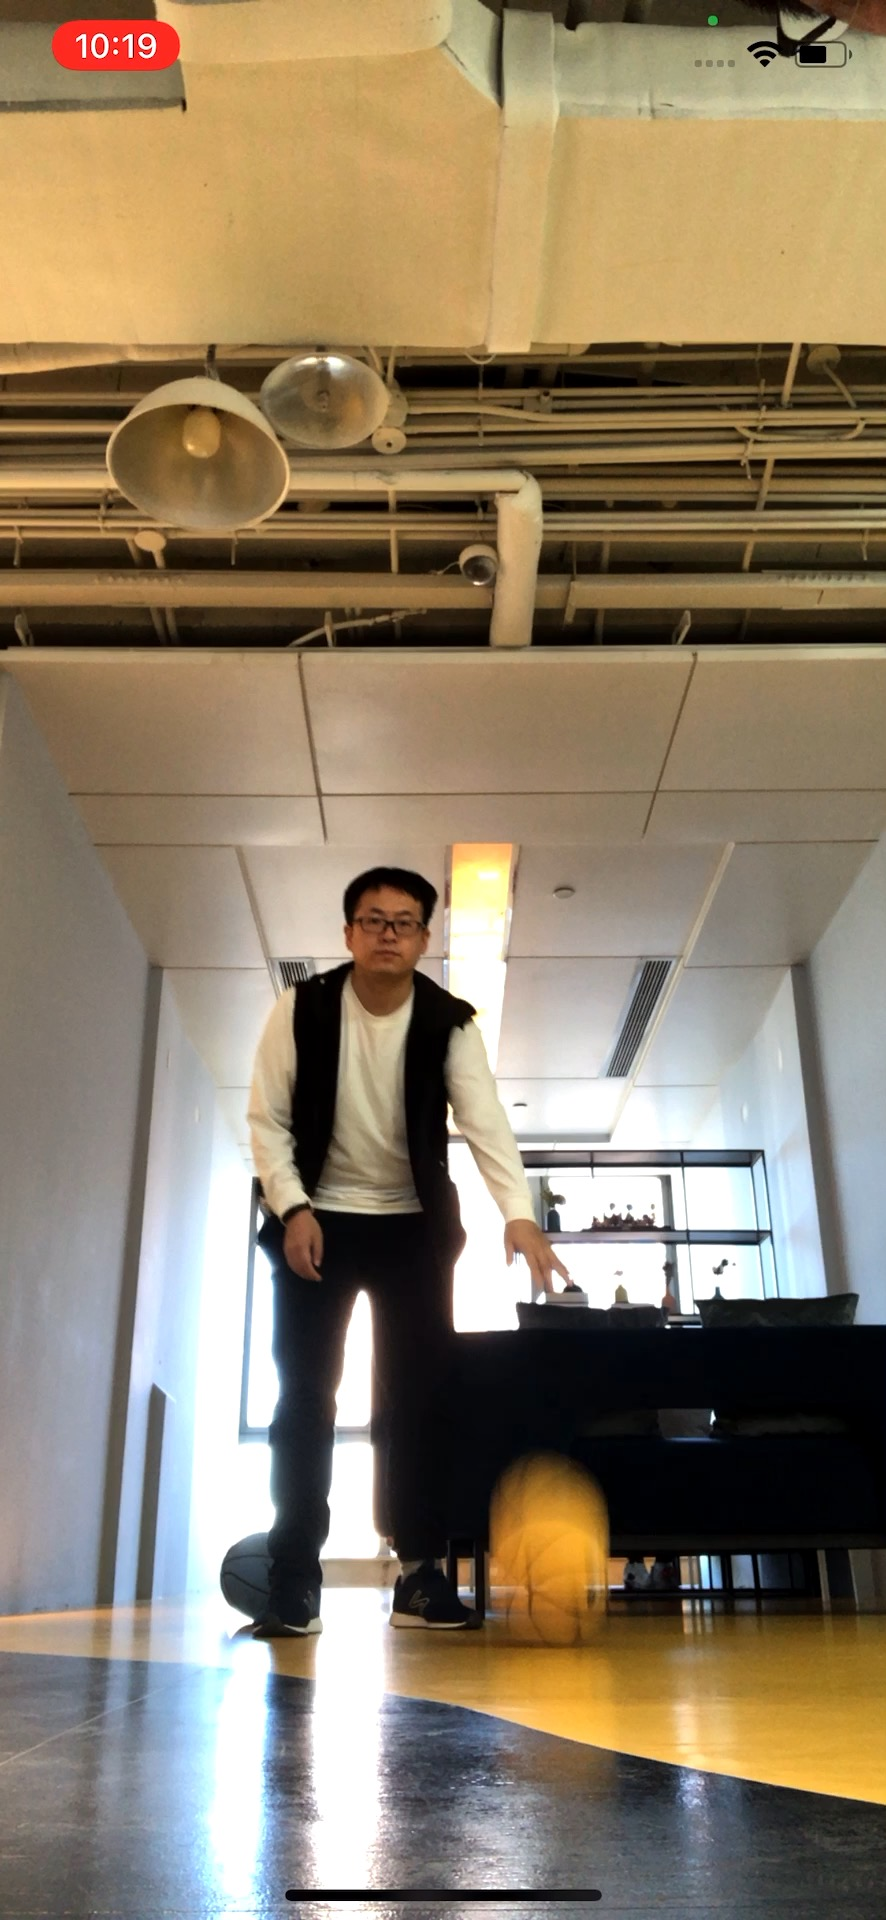ball: (490, 1516, 609, 1644), (218, 1531, 278, 1625)
